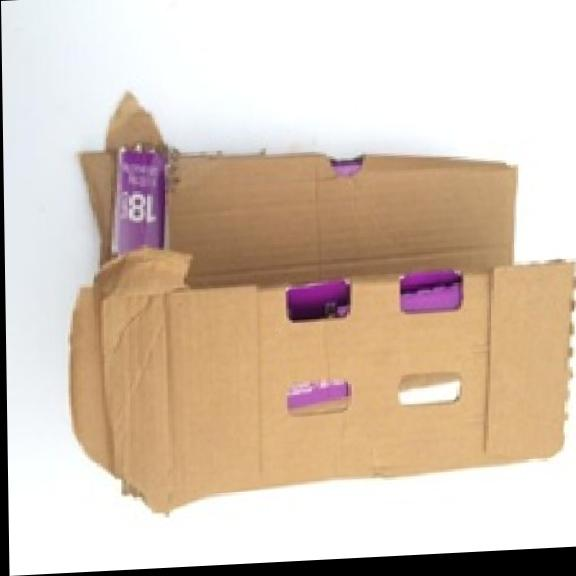Kertas: (70, 96, 573, 511)
